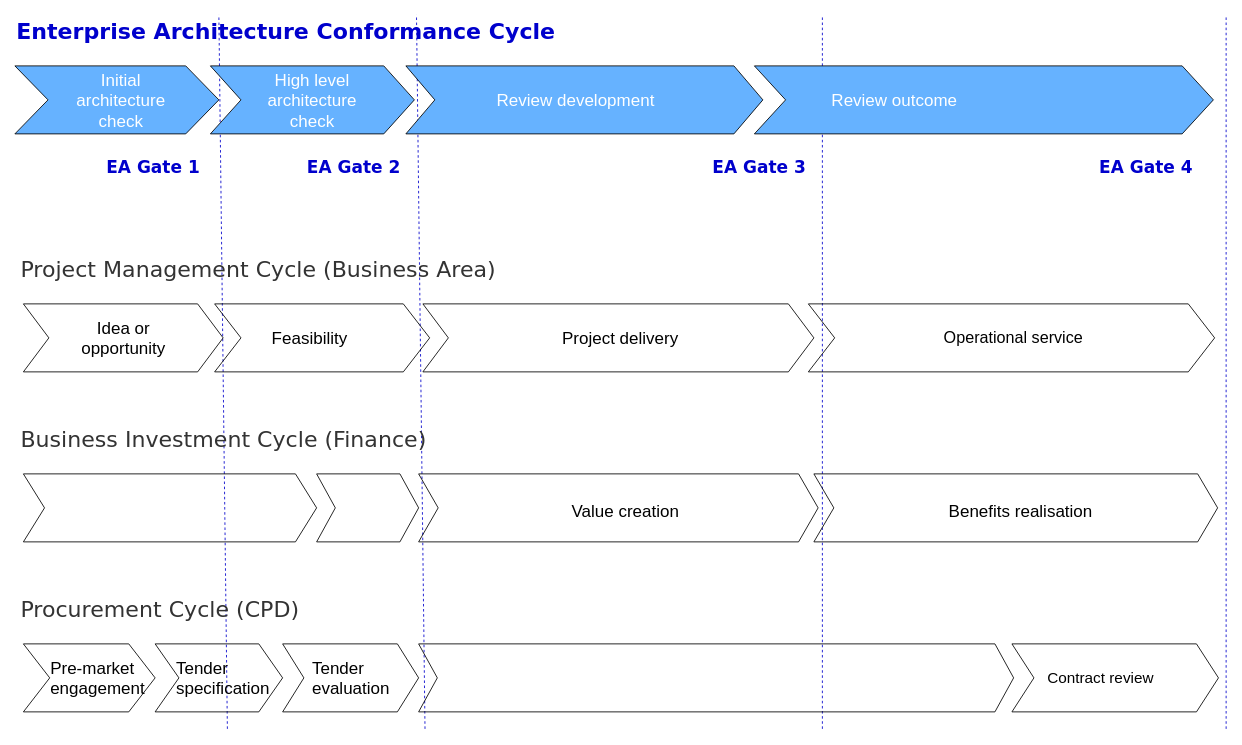
This 1242x745 diagram has some shape labels left out. Each missing label, with the centre of its shape:
"Contract delivery" belongs at point 716,677.
"Full Business Case" belongs at point 367,507.
"Outline Business Case" belongs at point 170,507.
